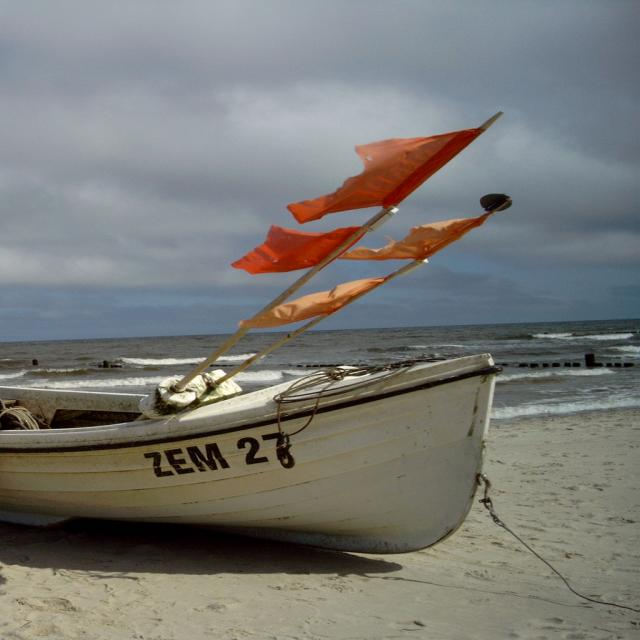Boat: (0, 110, 503, 560)
